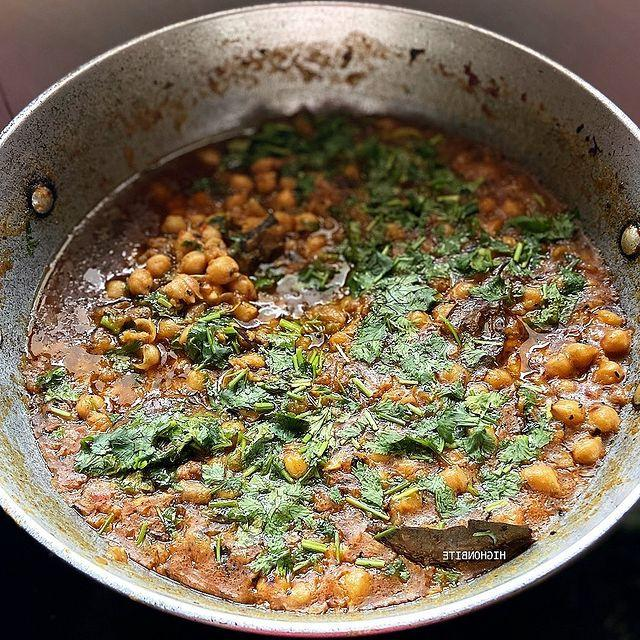Chole: (92, 206, 274, 364)
